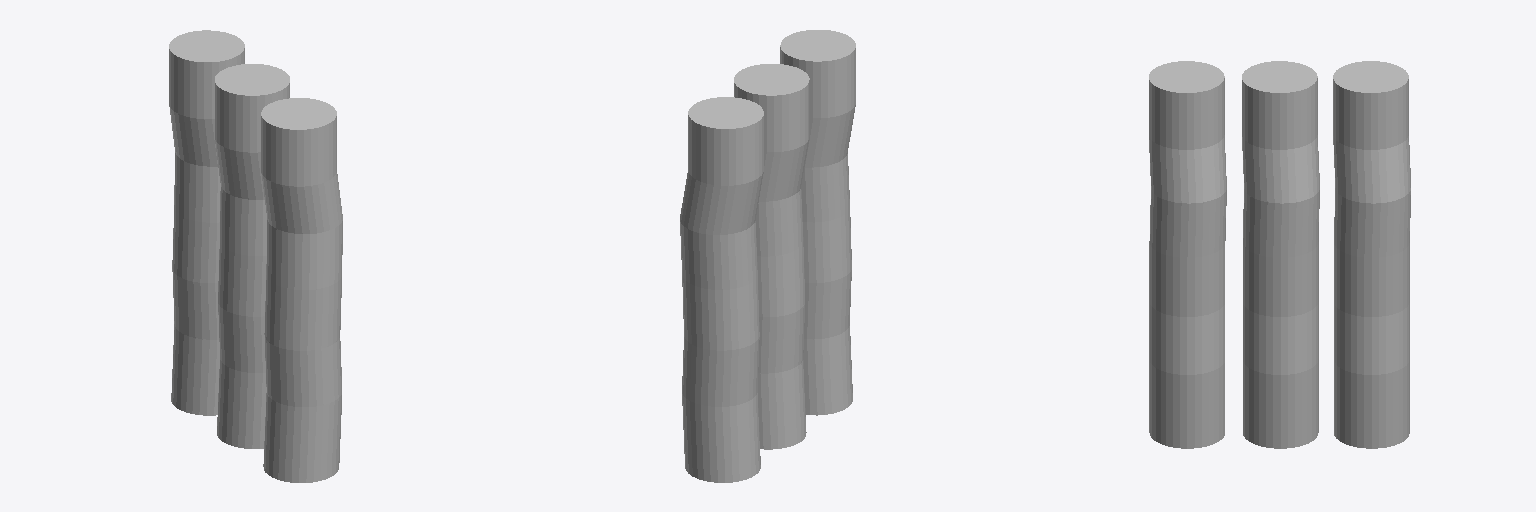
Rendered from log.obj.
The picture shows the model from 3 angles: view 1: azimuth 30°, elevation 25°; view 2: azimuth 150°, elevation 25°; view 3: azimuth 270°, elevation 25°; orthographic projection.
Visible parts, largest first — view 1: Cylinder.006_Cylinder.007, Cylinder.002_Cylinder.008, Cylinder.004_Cylinder.009; view 2: Cylinder.004_Cylinder.009, Cylinder.006_Cylinder.007, Cylinder.002_Cylinder.008; view 3: Cylinder.006_Cylinder.007, Cylinder.004_Cylinder.009, Cylinder.002_Cylinder.008.
Part boxes in pixels (left/top/right/bottom): Cylinder.006_Cylinder.007: left=261, top=98, right=342, bottom=482; Cylinder.002_Cylinder.008: left=215, top=64, right=289, bottom=448; Cylinder.004_Cylinder.009: left=169, top=30, right=244, bottom=415; Cylinder.004_Cylinder.009: left=680, top=97, right=763, bottom=482; Cylinder.006_Cylinder.007: left=780, top=30, right=855, bottom=415; Cylinder.002_Cylinder.008: left=734, top=64, right=809, bottom=449; Cylinder.006_Cylinder.007: left=1149, top=61, right=1226, bottom=448; Cylinder.004_Cylinder.009: left=1333, top=61, right=1410, bottom=448; Cylinder.002_Cylinder.008: left=1242, top=61, right=1319, bottom=448.
Bounding box in the file's own units: 2.22 × 10.29 × 6.91.